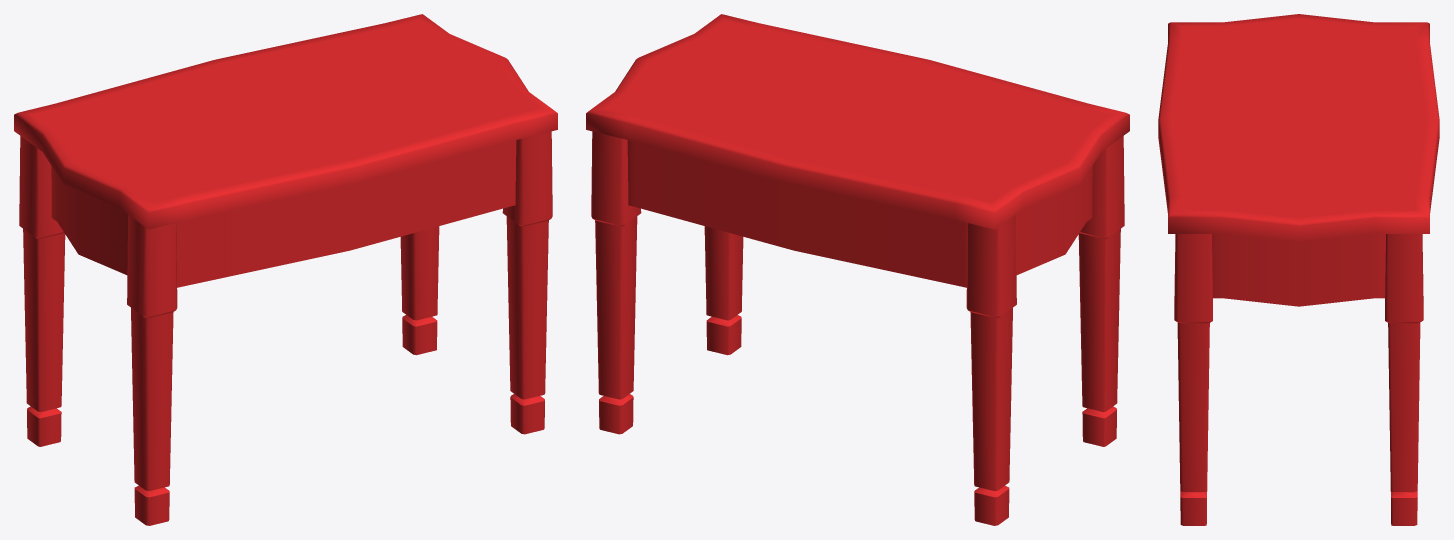
Rendered from TABLE.glb.
The picture shows the model from 3 angles, left to right: view 1: azimuth 30°, elevation 25°; view 2: azimuth 150°, elevation 25°; view 3: azimuth 270°, elevation 25°; orthographic projection. The views are drawn at different scales.
Parts seen in each view (by area): view 1: Prop_Table_D; view 2: Prop_Table_D; view 3: Prop_Table_D.
Part boxes in pixels (<box>): Prop_Table_D: <box>14,14,557,525</box>; Prop_Table_D: <box>586,14,1129,525</box>; Prop_Table_D: <box>1158,14,1439,525</box>.
Bounding box in the file's own units: 1.05 × 0.7252 × 0.5914.
